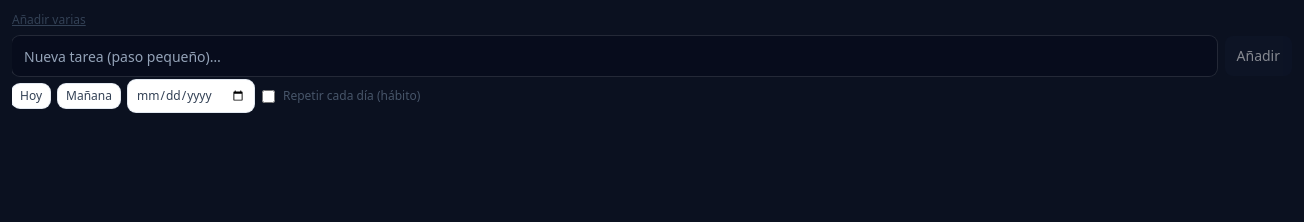
Test: TaskQuickAdd › clears bulk text via "Limpiar" and switches back with "Volver a una sola"
Click the button "Añadir varias".
click(49, 20)  # box [12,12,86,28]
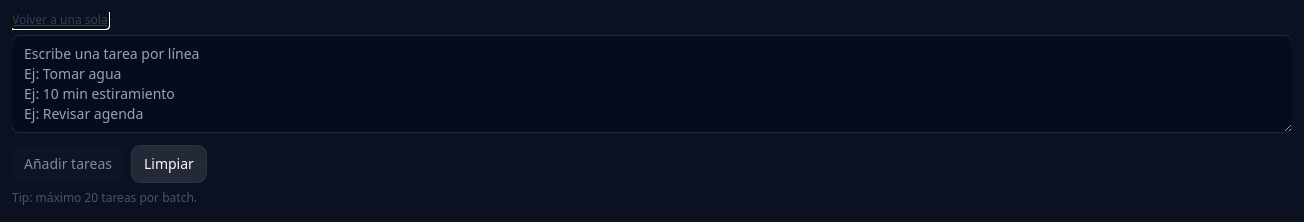
Type "Algo" into the text box with placeholder "Escribe una tarea por línea".
click(652, 84); type("Algo")  # box [12,36,1292,132]
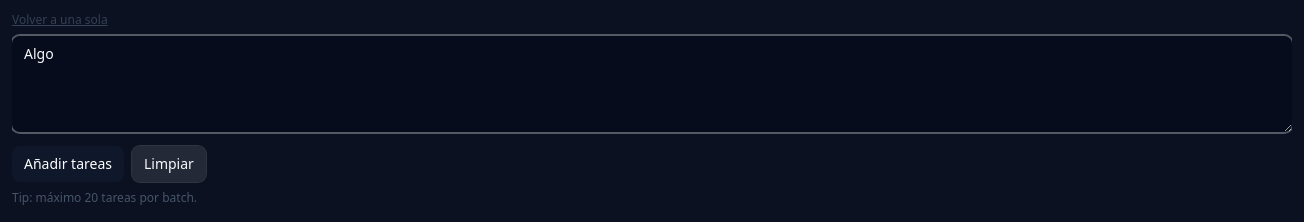
Click the button "Limpiar".
click(169, 164)  # box [132,146,206,182]
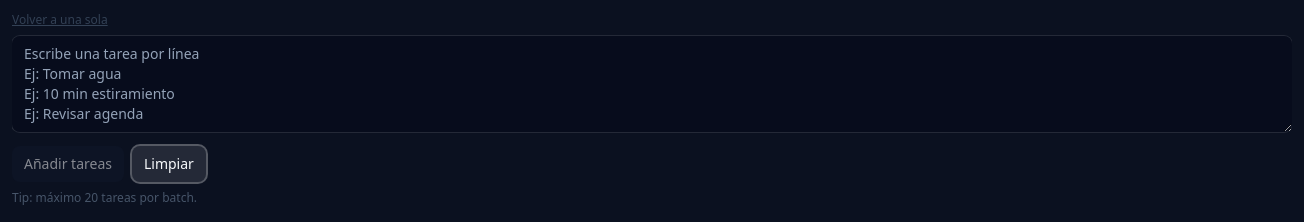
Expected: the text box with placeholder "Escribe una tarea por línea" is empty, [12,36,1292,132]
Click the button "Volver a una sola".
click(60, 20)  # box [12,12,108,28]
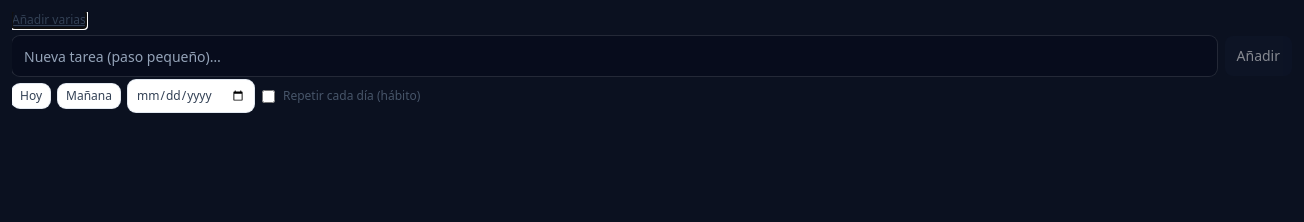
Expected: the field with placeholder "Nueva tarea (paso pequeño)…" is shown, [12,36,1216,76]
